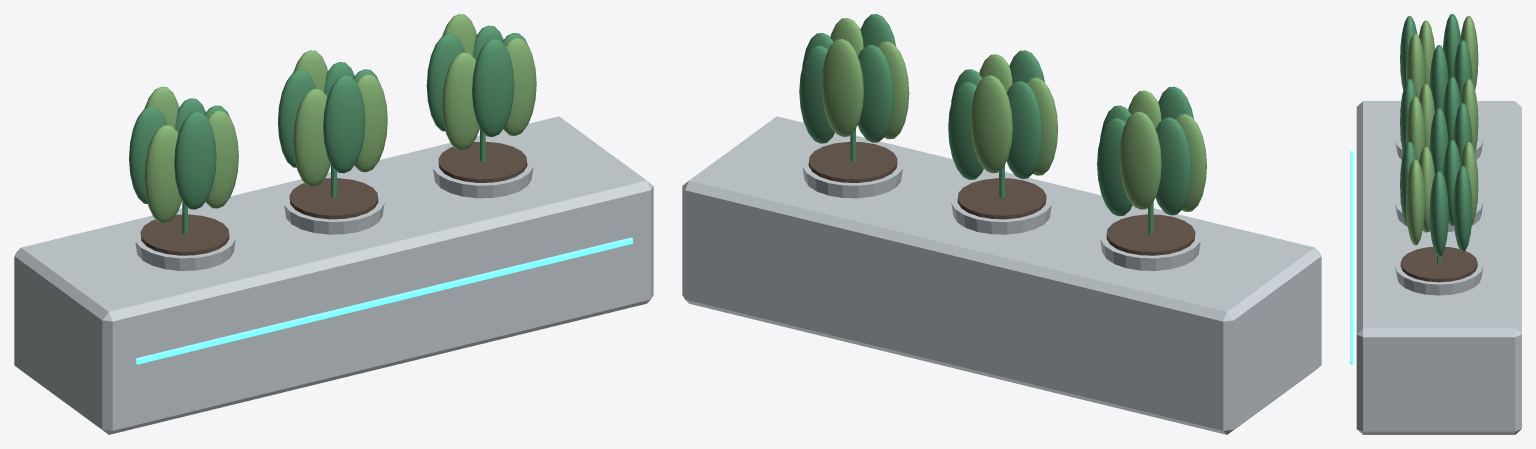
File: decor_02.glb
3 renders of one model, left to right at view 1: azimuth 30°, elevation 25°; view 2: azimuth 150°, elevation 25°; view 3: azimuth 270°, elevation 25°, orthographic. The views are drawn at different scales.
Parts seen in each view (by area): view 1: Planter, Leaf (×15), Soil (×3), Pot (×3), PlanterStripe; view 2: Planter, Leaf (×18), Soil (×3), Pot (×3); view 3: Planter, Leaf (×21), Soil, Pot (×3), PlanterStripe.
Part boxes in pixels (<box>): Planter: <box>14,116,653,434</box>; Leaf (×15): <box>129,14,536,222</box>; Soil (×3): <box>140,141,527,255</box>; Pot (×3): <box>134,148,533,270</box>; PlanterStripe: <box>136,237,632,364</box>; Planter: <box>682,116,1321,434</box>; Leaf (×18): <box>799,14,1206,216</box>; Soil (×3): <box>808,141,1195,255</box>; Pot (×3): <box>802,148,1201,270</box>; Planter: <box>1356,101,1521,434</box>; Leaf (×21): <box>1400,14,1478,256</box>; Soil: <box>1400,247,1477,282</box>; Pot (×3): <box>1395,132,1483,295</box>; PlanterStripe: <box>1350,151,1353,364</box>.
Size of the model in its own units: 1.5 by 0.7175 by 0.4675.
